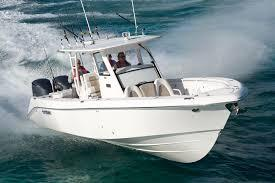fishing boat: (22, 0, 248, 165)
